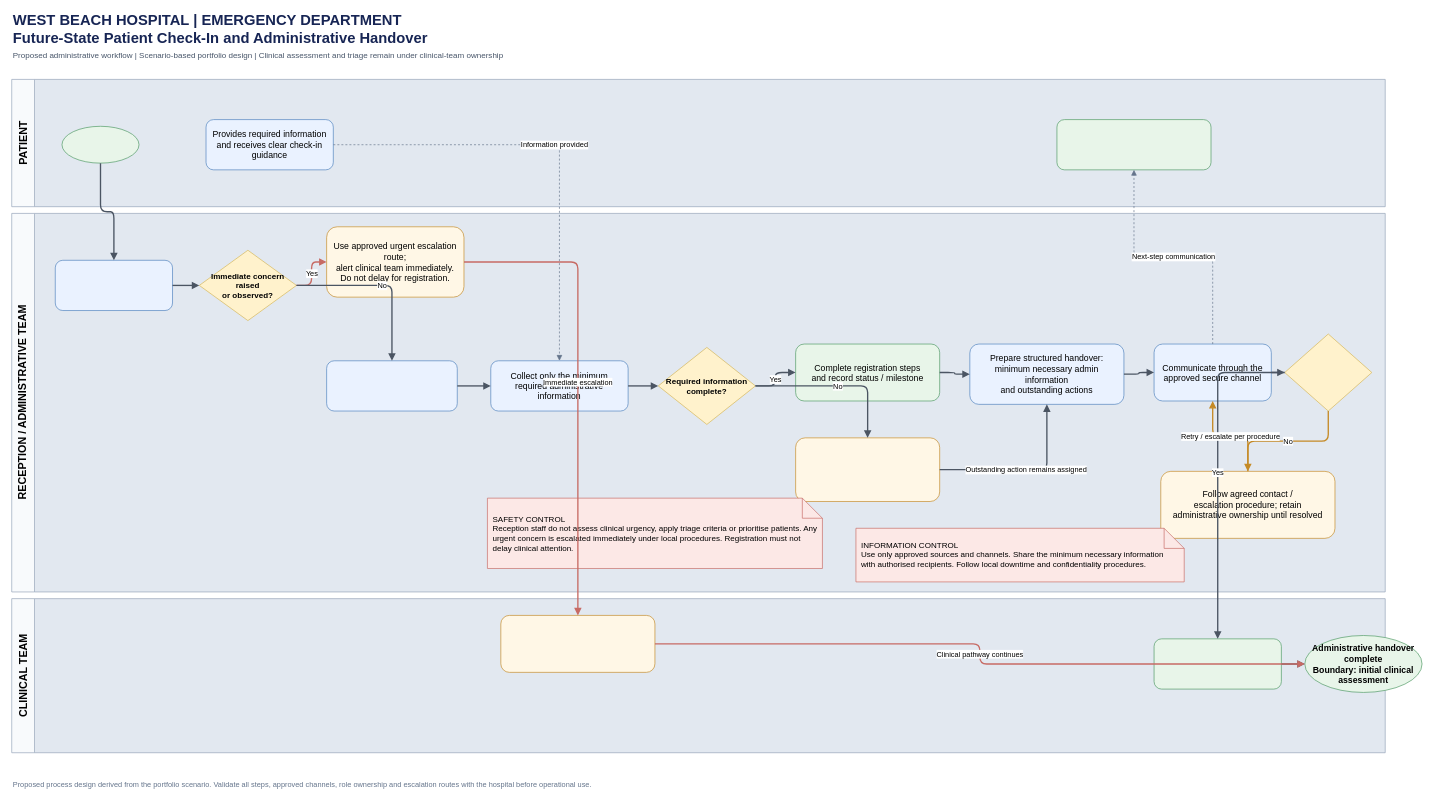
This 1434x808 diagram has some shape labels left out. Here are the shapes that lost their labels. From the top down, the centre of each, then its label:
At (x=100, y=144): "Patient arrives".
At (x=1133, y=144): "Receives explanation of next steps and any outstanding admin action".
At (x=114, y=285): "Acknowledge arrival and record arrival milestone".
At (x=391, y=385): "Check available information through authorised sources".
At (x=1328, y=372): "Receipt acknowledged?".
At (x=867, y=469): "Record missing information; assign an administrative owner and follow-up action".
At (x=577, y=643): "Clinical team responds under local urgent escalation procedure".
At (x=1217, y=663): "Receive and acknowledge administrative handover".
